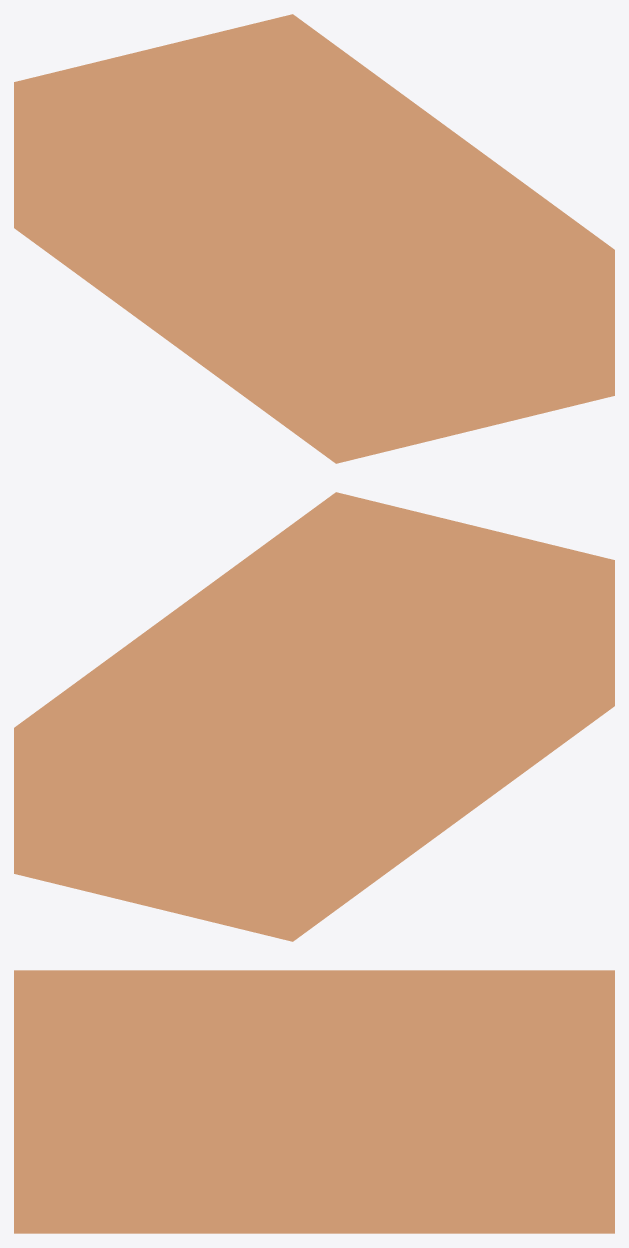
File: deneme.glb
3 views of the same model, one above another, from view 1: azimuth 30°, elevation 25°; view 2: azimuth 150°, elevation 25°; view 3: azimuth 270°, elevation 25° (orthographic). The views are drawn at different scales.
Visible parts, largest first — view 1: COL_kutu; view 2: COL_kutu; view 3: COL_kutu.
Boxes of the visible parts, x1,y1,x2,y2 form: COL_kutu: (14, 14, 614, 463); COL_kutu: (14, 492, 614, 941); COL_kutu: (14, 970, 614, 1233).
Bounding box in the file's own units: 0.12 × 0.06 × 0.24.
